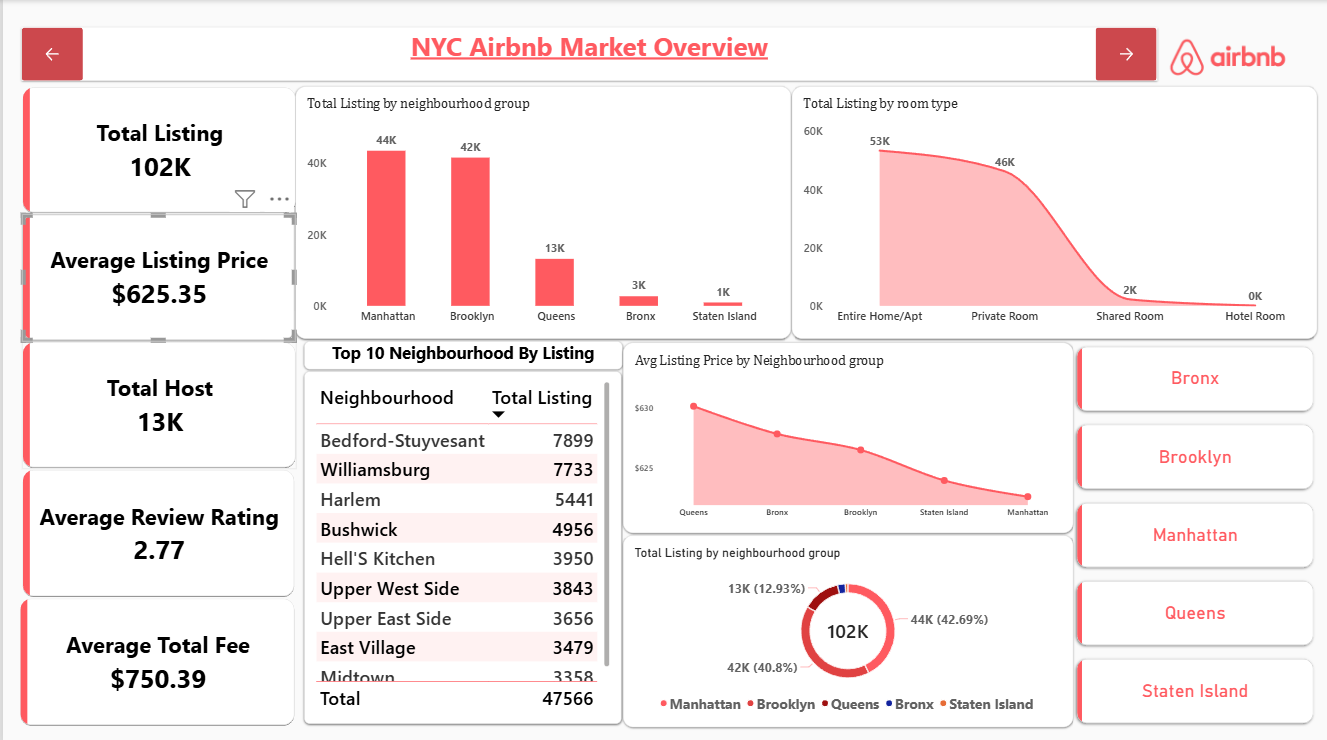

Layout of this report page (visuals, bound fields, positions):
{"tool":"powerbi","page":{"name":"NYC Airbnb Market Overview","canvas":[1920,1080],"ordinal":1},"visuals":[{"type":"textbox","box":[26.4,39.5,1643.6,77.2],"z":0},{"type":"image","box":[1624.3,11.7,295.7,144],"z":1000},{"type":"cardVisual","fields":{"Data":["Measure.Total Host"]},"box":[27.2,494.1,398.4,184.1],"z":2000},{"type":"cardVisual","fields":{"Data":["Measure.Avg Listing Price"]},"box":[27.2,309.3,396.8,184.8],"z":3000},{"type":"columnChart","fields":{"Category":["Dim_Neighbourhood.neighbourhood group"],"Y":["Measure.Total Listing"]},"box":[424.1,124.5,717.8,365.7],"z":4000},{"type":"cardVisual","fields":{"Data":["Measure.Avg Reviews"]},"box":[27.2,678.9,396.8,186.7],"z":5000},{"type":"cardVisual","fields":{"Data":["Measure.Total Listing"]},"box":[27.2,124.5,398.4,184.1],"z":6000},{"type":"tableEx","fields":{"Values":["Fact_Airbnb_Listings.neighbourhood","Measure.Total Listing"]},"box":[437.2,537.5,459.6,510.3],"z":7000,"group":"g1"},{"type":"stackedAreaChart","title":"Total Listing by room type","fields":{"Category":["Dim_Room.room type"],"Y":["Measure.Total Listing"]},"box":[1141.9,124.5,760.6,365.7],"z":8000},{"type":"donutChart","fields":{"Category":["Dim_Neighbourhood.neighbourhood group"],"Y":["Measure.Total Listing"]},"box":[896.8,773.7,651.7,278.2],"z":9000},{"type":"textbox","box":[436.8,493.3,460.5,41],"z":10000,"group":"g1"},{"type":"group","id":"g1","title":"Group 1","box":[436.8,493.3,460.5,554.5],"z":10001},{"type":"cardVisual","fields":{"Data":["Measure.Avg Total Price"]},"box":[23.3,865.7,400.7,186.7],"z":10002},{"type":"areaChart","title":"Avg Listing Price by Neighbourhood group","fields":{"Category":["Dim_Neighbourhood.neighbourhood group"],"Y":["Measure.Avg Listing Price"]},"box":[896.8,495.9,651.7,276.2],"z":10003},{"type":"advancedSlicerVisual","fields":{"Values":["Dim_Neighbourhood.neighbourhood group"]},"box":[1549.1,495.8,354.7,557.4],"z":10004},{"type":"actionButton","box":[1581.5,39.5,88.5,77.2],"z":10005},{"type":"actionButton","box":[26.4,39.5,88.5,77.2],"z":10006}]}

Visuals, with their boxes in screenshot pixels (x1, y1, x2, y2), scaled from the page's 1920x1080 canvas onto the 1327x740 screenshot:
textbox: 18 27 1154 80
image: 1123 8 1326 107
cardVisual - Measure.Total Host: 19 339 294 465
cardVisual - Measure.Avg Listing Price: 19 212 293 339
columnChart - Dim_Neighbourhood.neighbourhood group x Measure.Total Listing: 293 85 789 336
cardVisual - Measure.Avg Reviews: 19 465 293 593
cardVisual - Measure.Total Listing: 19 85 294 211
tableEx - Fact_Airbnb_Listings.neighbourhood x Measure.Total Listing: 302 368 620 718
"Total Listing by room type" stackedAreaChart: 789 85 1315 336
donutChart - Dim_Neighbourhood.neighbourhood group x Measure.Total Listing: 620 530 1070 721
textbox: 302 338 620 366
"Group 1" group: 302 338 620 718
cardVisual - Measure.Avg Total Price: 16 593 293 721
"Avg Listing Price by Neighbourhood group" areaChart: 620 340 1070 529
advancedSlicerVisual - Dim_Neighbourhood.neighbourhood group: 1071 340 1316 722
actionButton: 1093 27 1154 80
actionButton: 18 27 79 80
